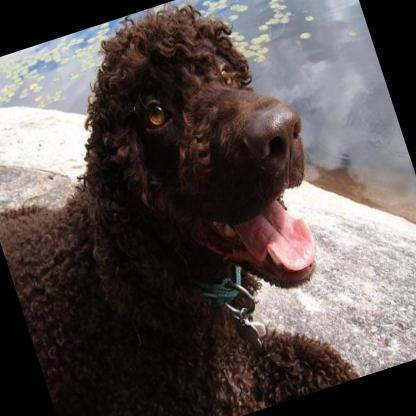Irish_water_spaniel: (0, 0, 381, 416)
